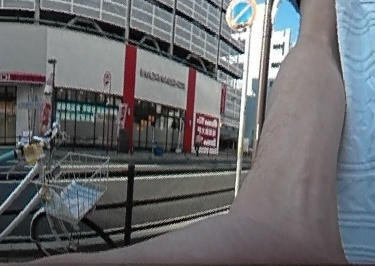person: (193, 128, 204, 154)
